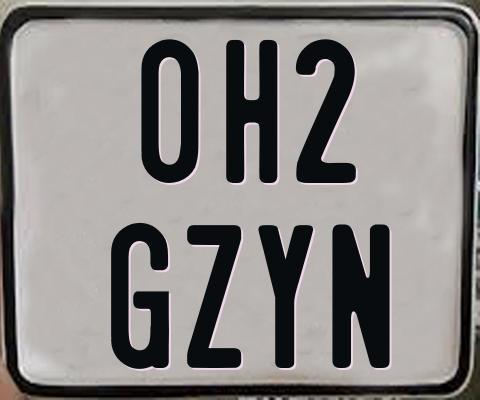0: (141, 39, 204, 184)
2: (296, 39, 358, 187)
G: (111, 222, 169, 368)
H: (223, 38, 275, 182)
N: (332, 222, 394, 366)
Y: (256, 225, 316, 368)
Z: (185, 225, 240, 374)
